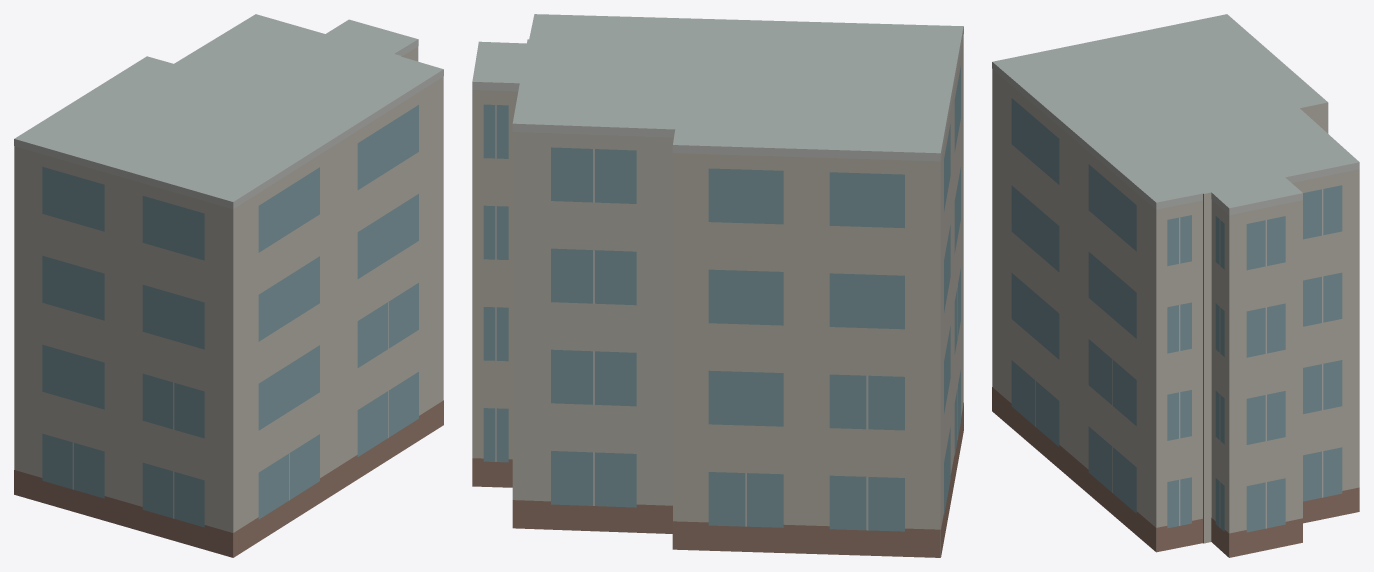
File: survey-upis-33001993.glb
3 renders of one model, left to right at view 1: azimuth 30°, elevation 25°; view 2: azimuth 150°, elevation 25°; view 3: azimuth 270°, elevation 25°, orthographic. The views are drawn at different scales.
Visible parts, largest first — view 1: survey-upis-33001993.tmp; view 2: survey-upis-33001993.tmp; view 3: survey-upis-33001993.tmp.
Part boxes in pixels (box(x1,y1,x2,y2)): survey-upis-33001993.tmp: box(14, 14, 443, 557); survey-upis-33001993.tmp: box(472, 14, 963, 557); survey-upis-33001993.tmp: box(992, 14, 1359, 557).
Size of the model in its own units: 14.55 by 12.2 by 11.63.
